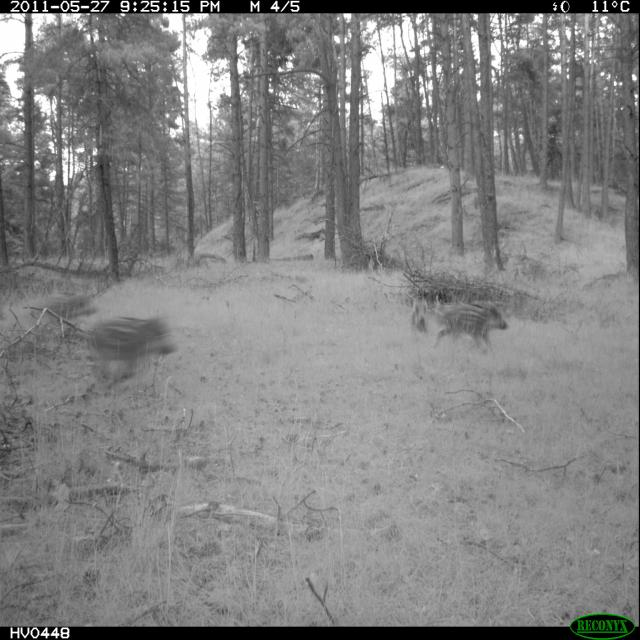boar: (419, 260, 527, 383), (73, 303, 193, 405)
